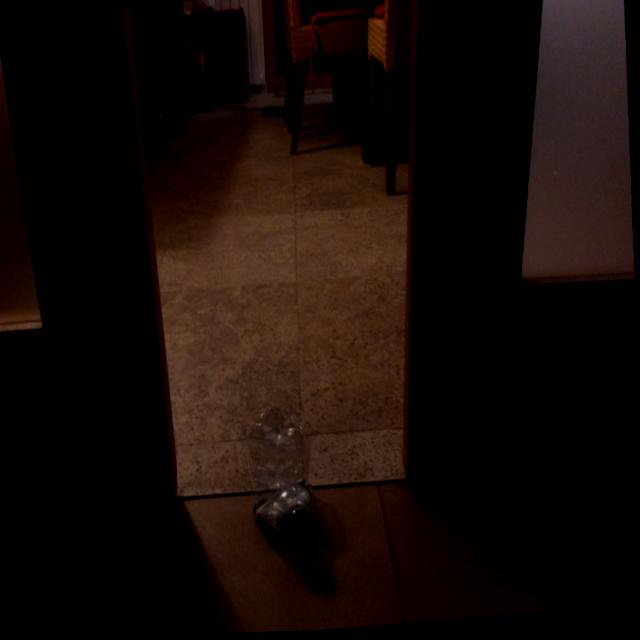Plastic: (224, 390, 331, 564)
